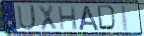A: (78, 5, 100, 31)
D: (96, 4, 119, 32)
H: (57, 5, 79, 31)
I: (121, 4, 130, 33)
U: (16, 4, 38, 32)
X: (37, 4, 58, 32)
